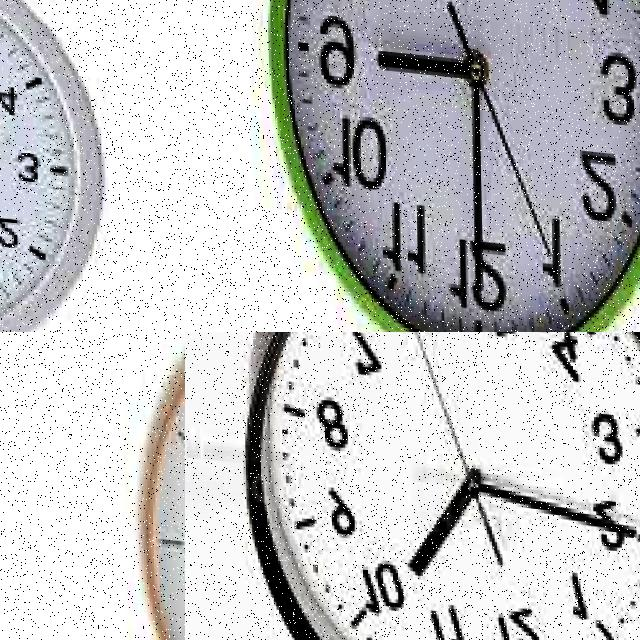Clocks-images: (259, 1, 640, 333), (234, 333, 640, 640), (1, 1, 102, 333), (136, 333, 186, 640)
